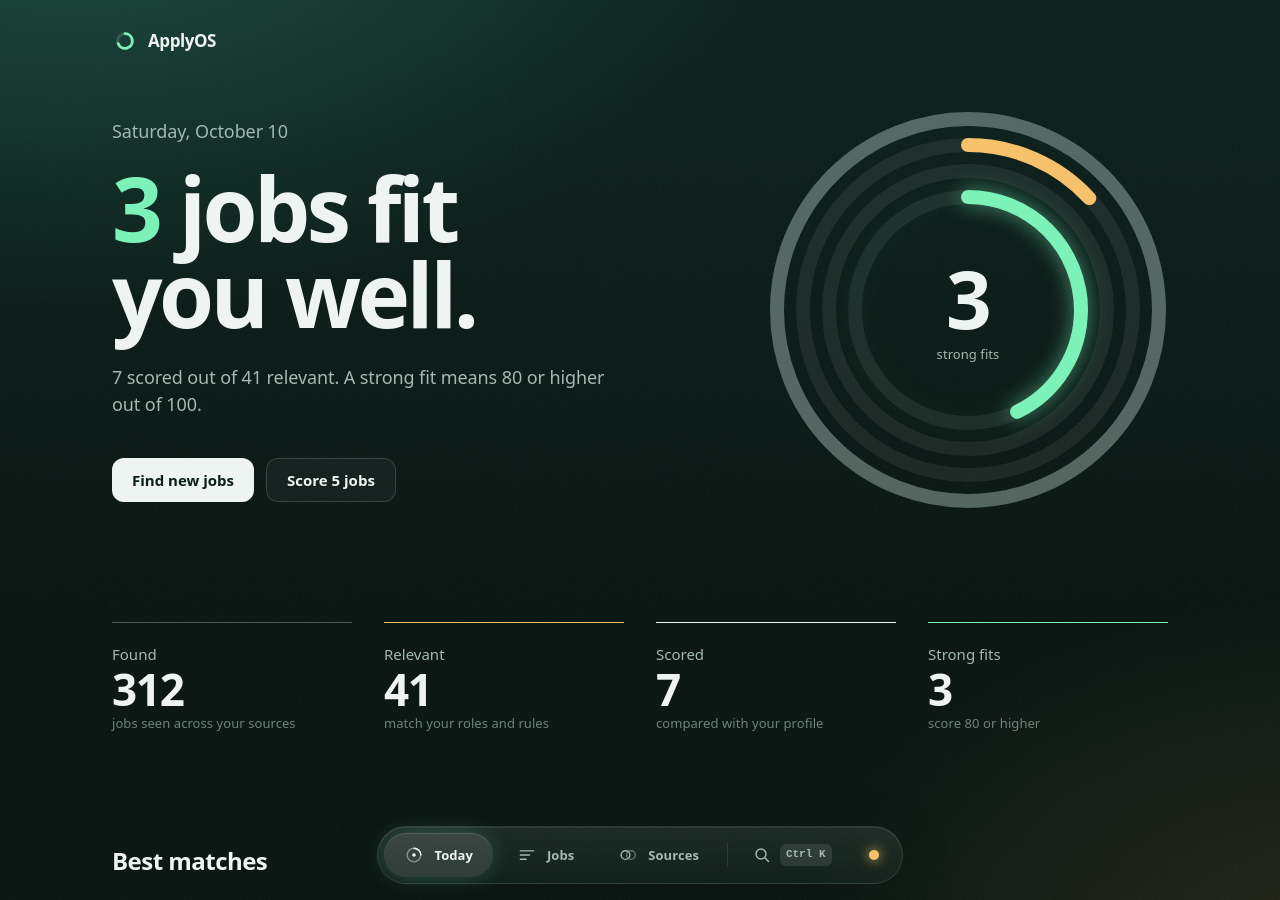
Today page › says when scoring stopped because no AI was available
Click the button "Score 5 jobs" at (331, 480), box [266,458,396,502]
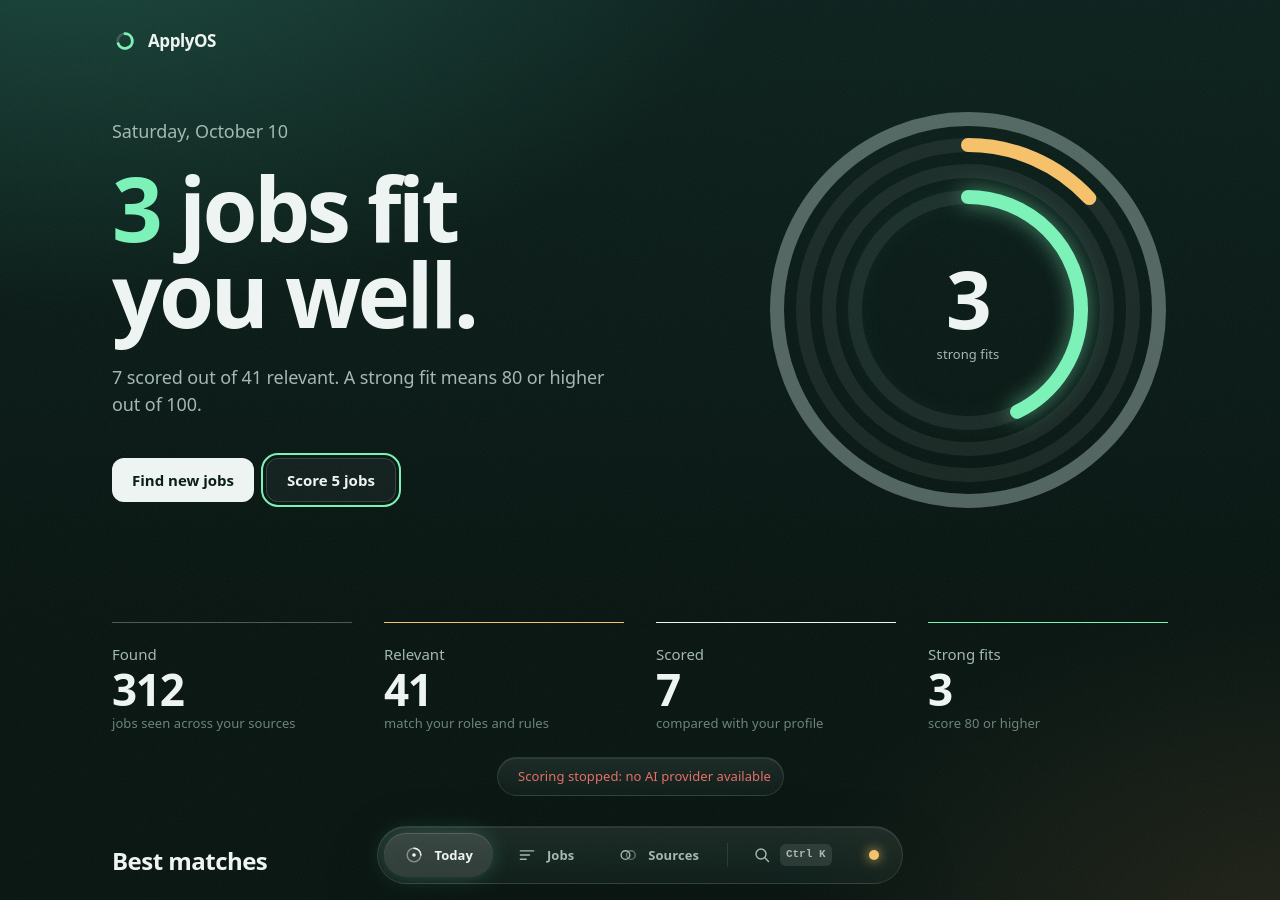
Expected: the text "Scoring stopped: no AI provider available" is shown, [518,768,770,785]
